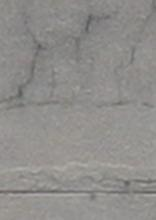fissura: (0, 12, 154, 114)
